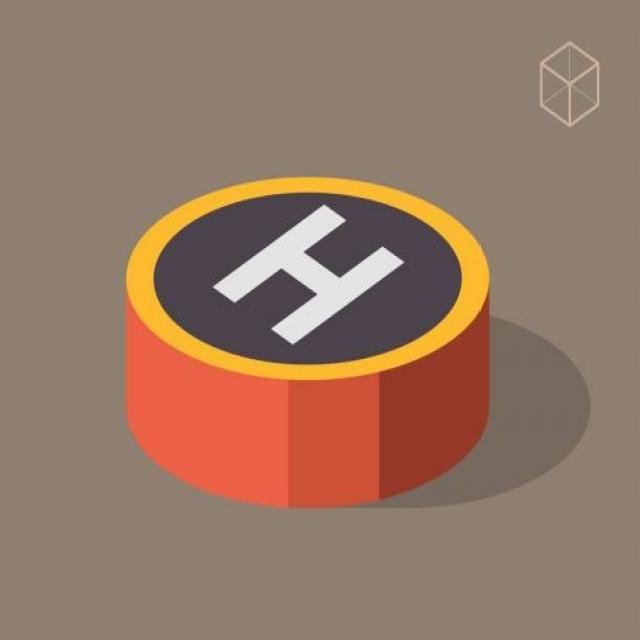helipad: (117, 168, 493, 384)
